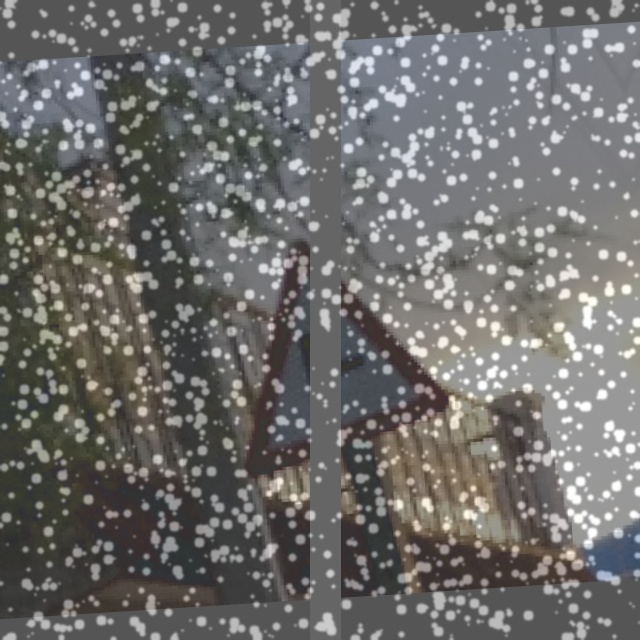Side_Road_Right: (217, 231, 437, 458)
